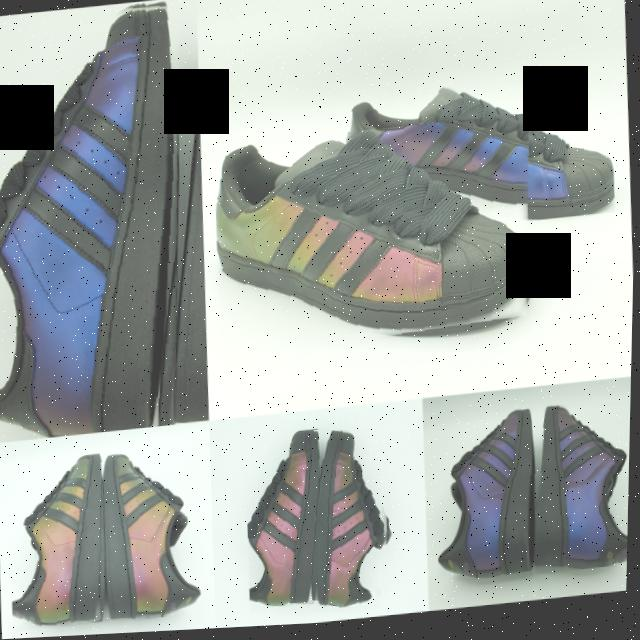shoe: (0, 0, 200, 444), (211, 118, 542, 364), (341, 74, 619, 244), (432, 412, 545, 588), (7, 454, 114, 633), (102, 446, 209, 624), (532, 402, 633, 580), (244, 432, 333, 617), (313, 427, 400, 613)
